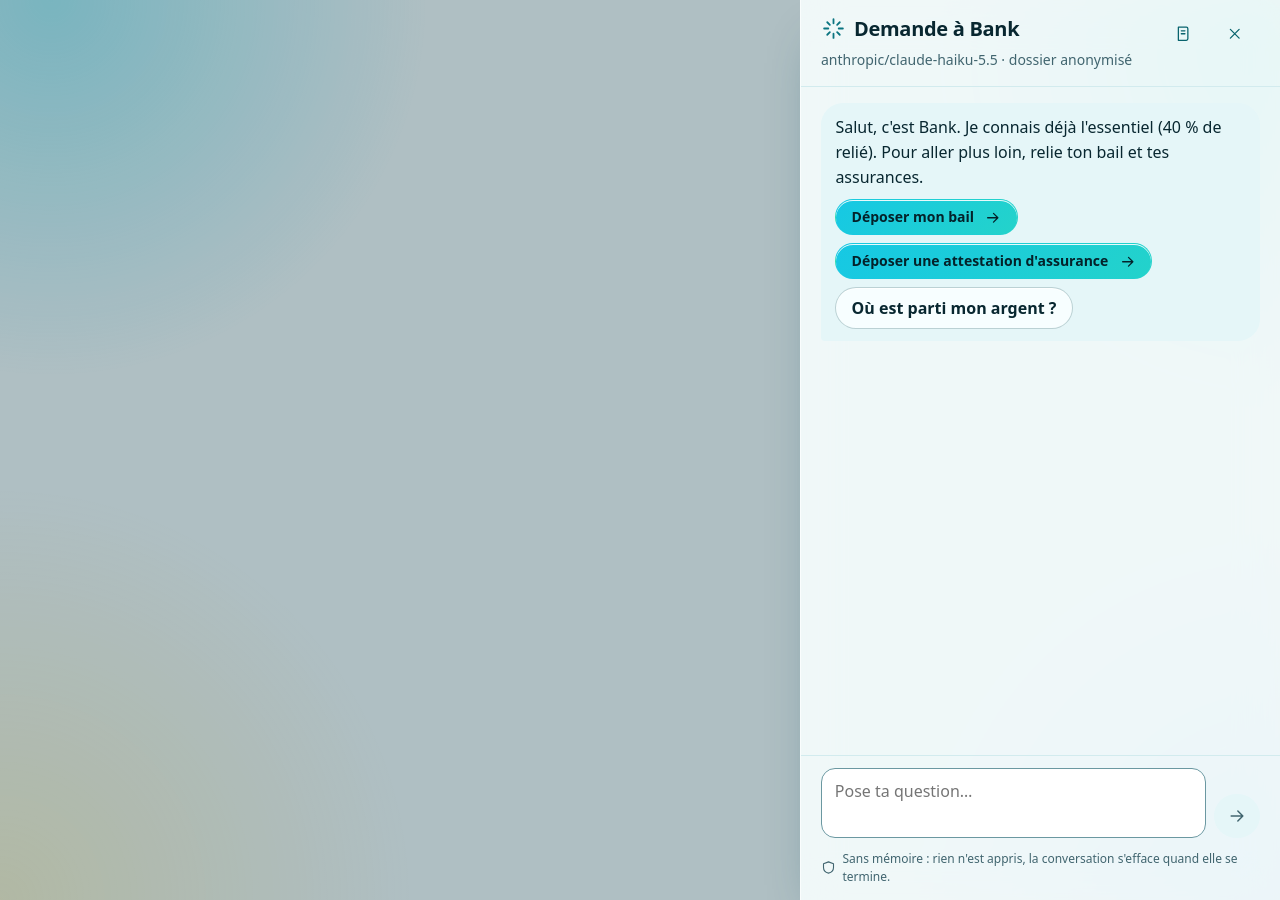
Test: chat interactif › opens with Bank's initiative: connect buttons that navigate, ready questions that ask
The image size is (1280, 900).
Expected: the element with class "assistant-opening" shows "40 % de relié", [835,116,1222,188]
Click the button "Où est parti mon argent ?". click: point(954, 308)
box: [835,287,1073,329]
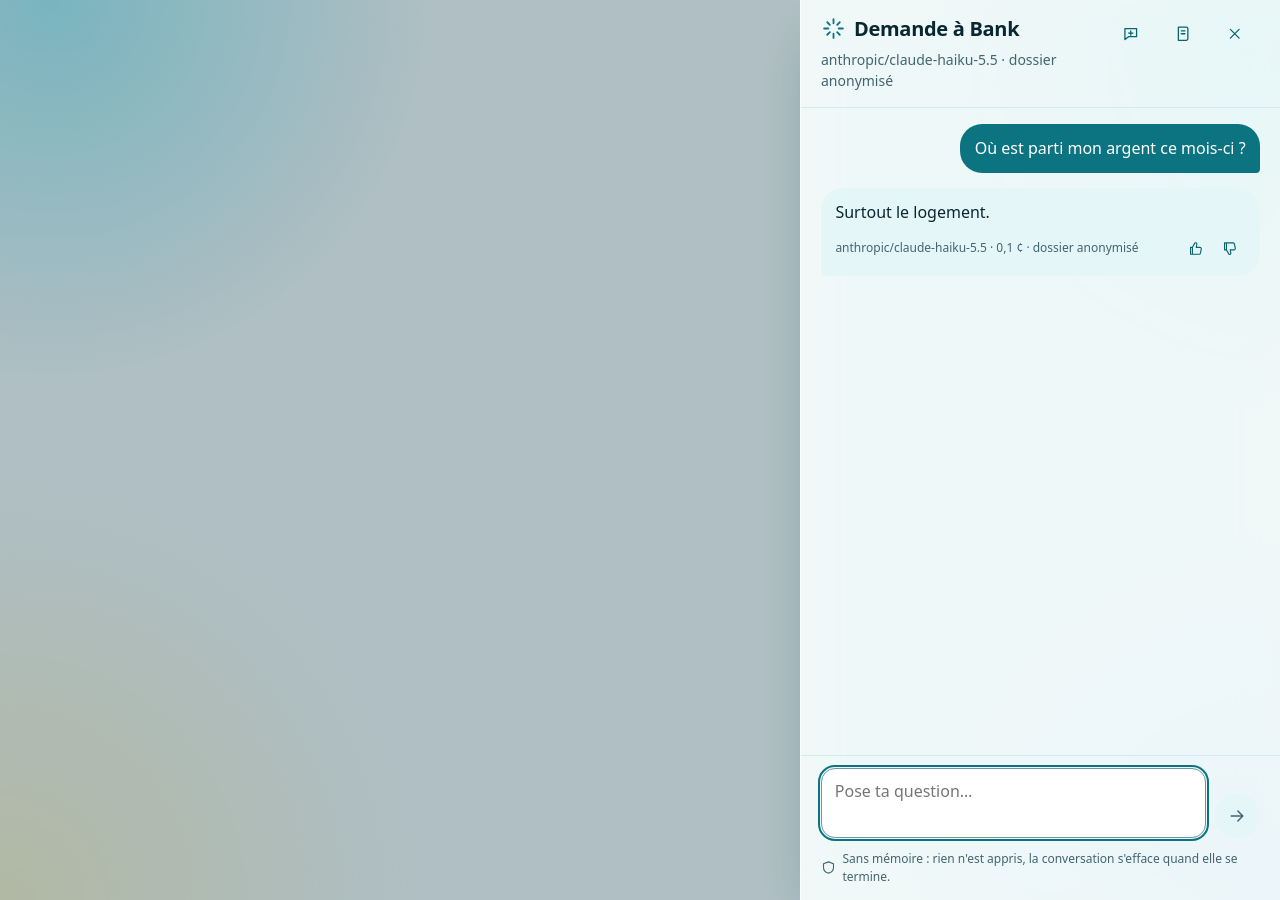
Expected: the element with class "assistant-opening" is gone
Expected: the text "Surtout le logement." is shown, [835,201,990,223]
